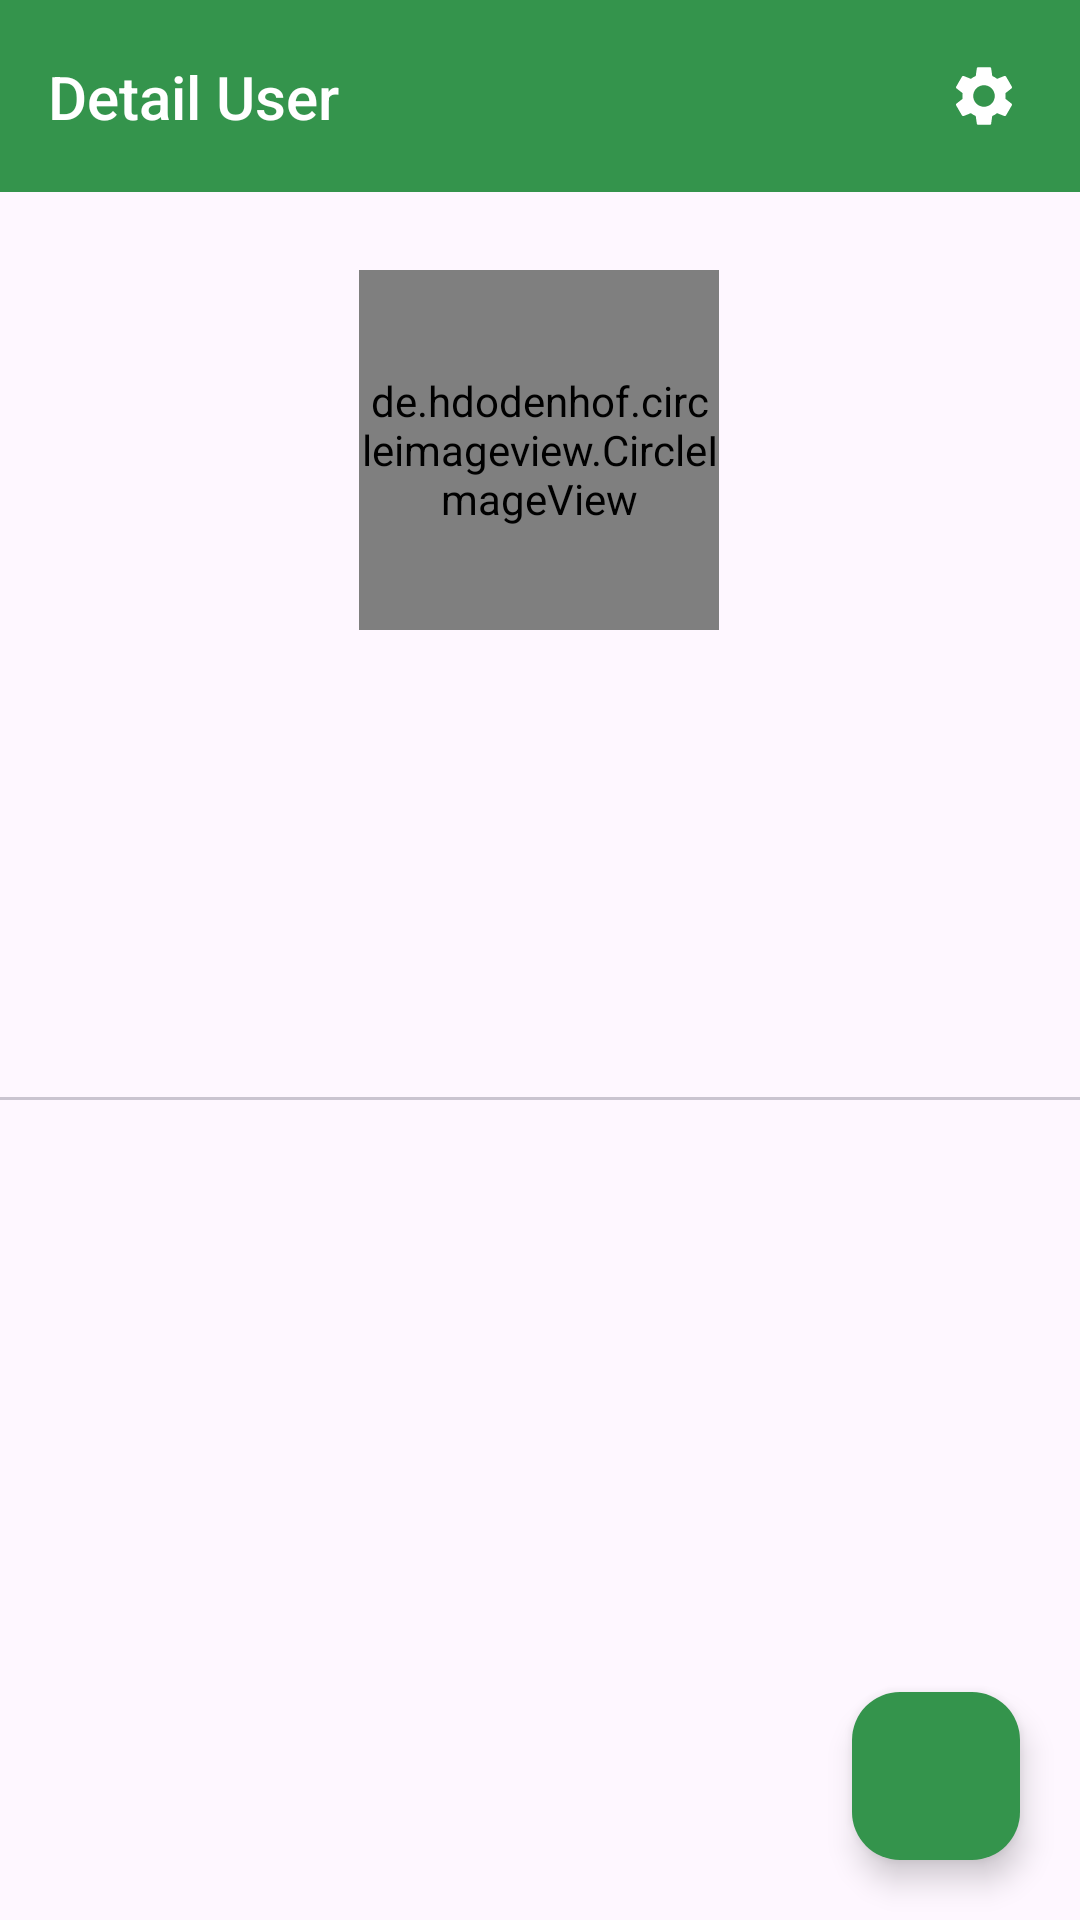

Icon click points for this 1080px×1920px phone screenshot, format point (x, y):
setting: point (984, 96)
